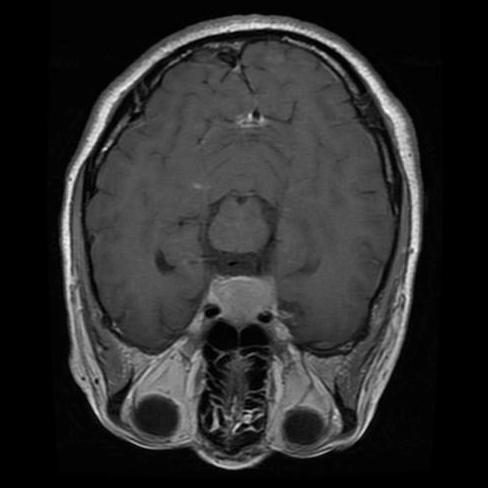Tumour-Pituitary: (201, 274, 279, 329)
